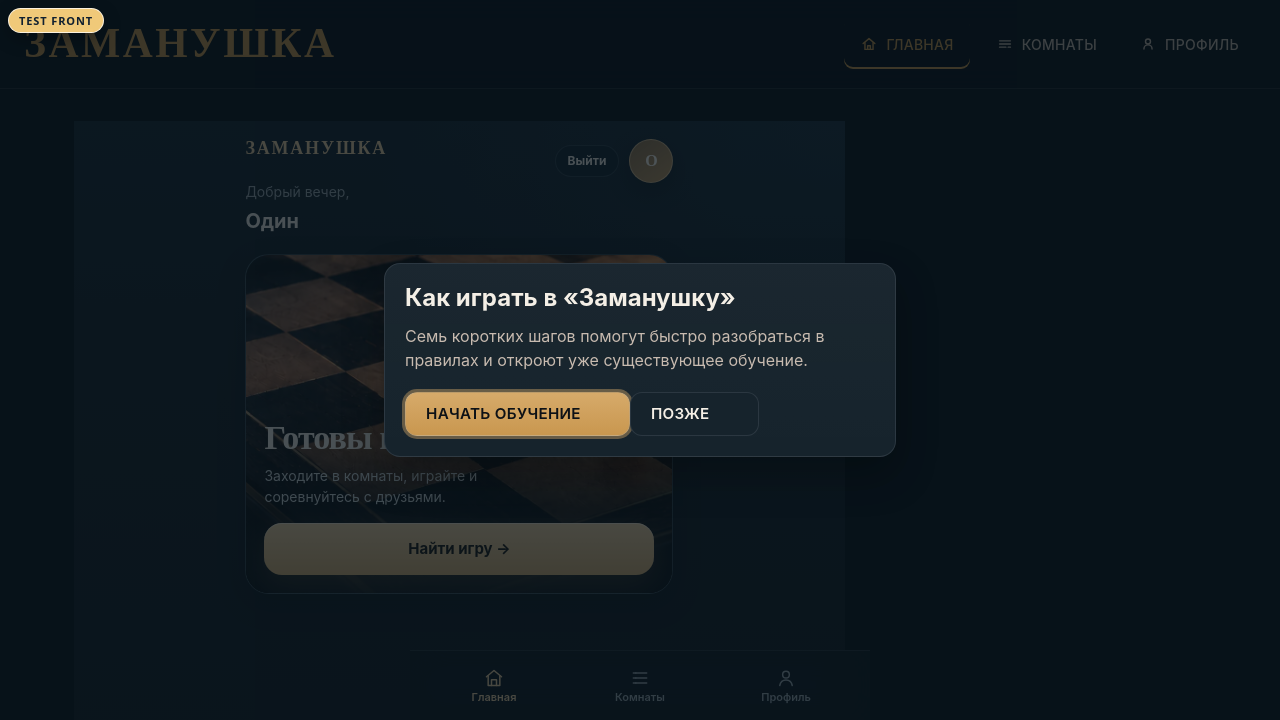
Test case: EPIC-10 rules onboarding › starts the existing rules guided flow at step 1 and marks onboarding as seen
Click the button "Начать обучение" at (517, 414), box x1=405 y1=392 x2=630 y2=436
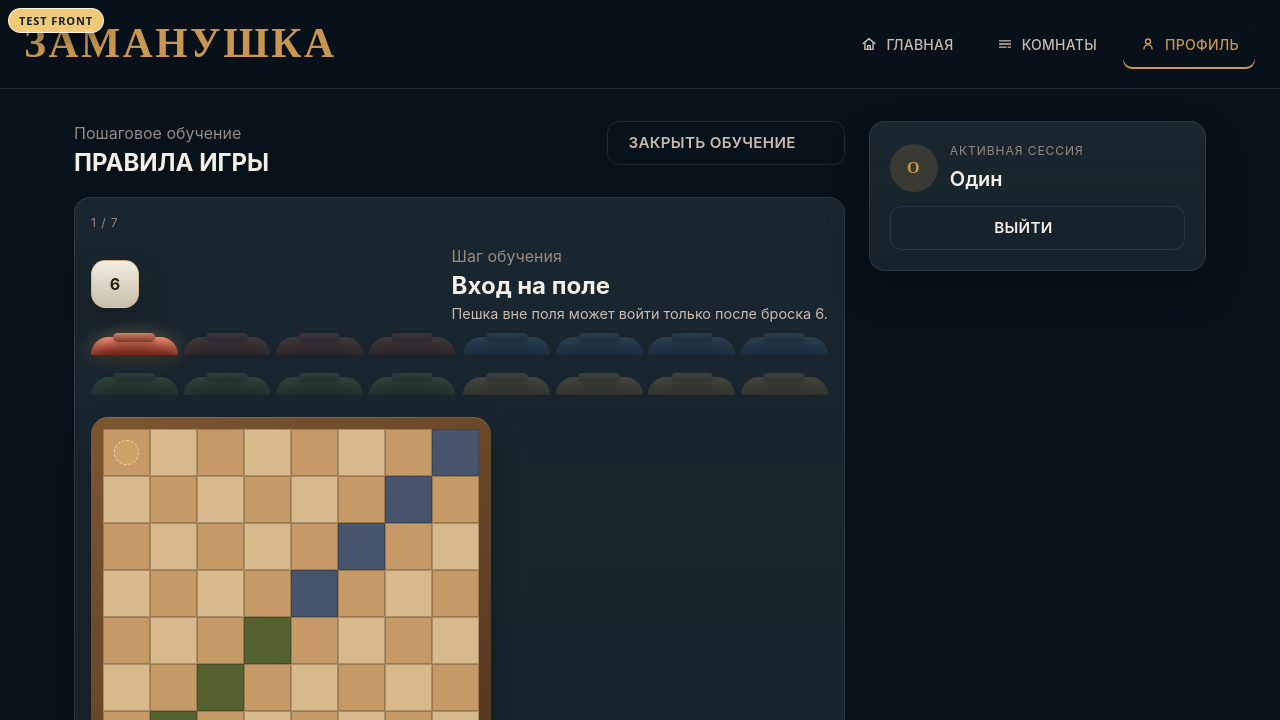
Check: the text "1 / 7" is shown, box x1=91 y1=215 x2=119 y2=230
Check: the heading "Вход на поле" is shown, box x1=452 y1=271 x2=610 y2=300
Check: the dialog is gone
